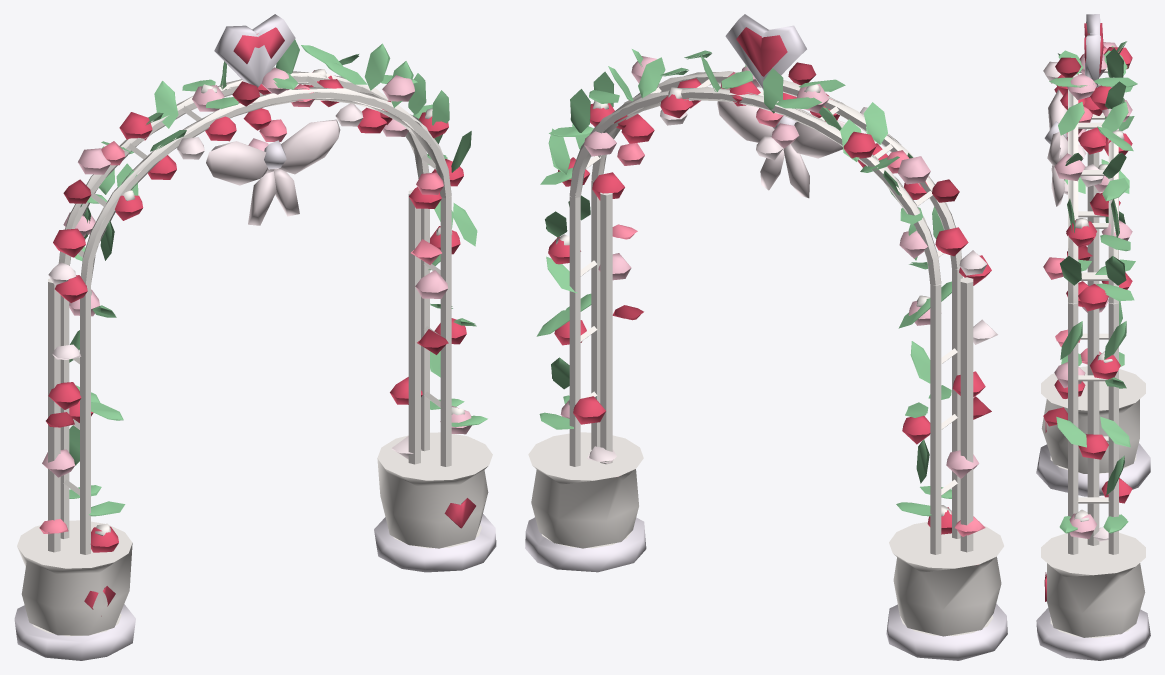
The model's file is lite_rose_arch.glb.
The picture shows the model from 3 angles, left to right: view 1: azimuth 30°, elevation 25°; view 2: azimuth 150°, elevation 25°; view 3: azimuth 270°, elevation 25°; orthographic projection. The views are drawn at different scales.
Parts seen in each view (by area): view 1: rose_arch; view 2: rose_arch; view 3: rose_arch.
Boxes of the visible parts, bbox=[...] form: rose_arch: bbox=[14, 14, 496, 660]; rose_arch: bbox=[525, 14, 1007, 660]; rose_arch: bbox=[1036, 14, 1150, 660].
Size of the model in its own units: 2.97 by 3.47 by 0.6813.
